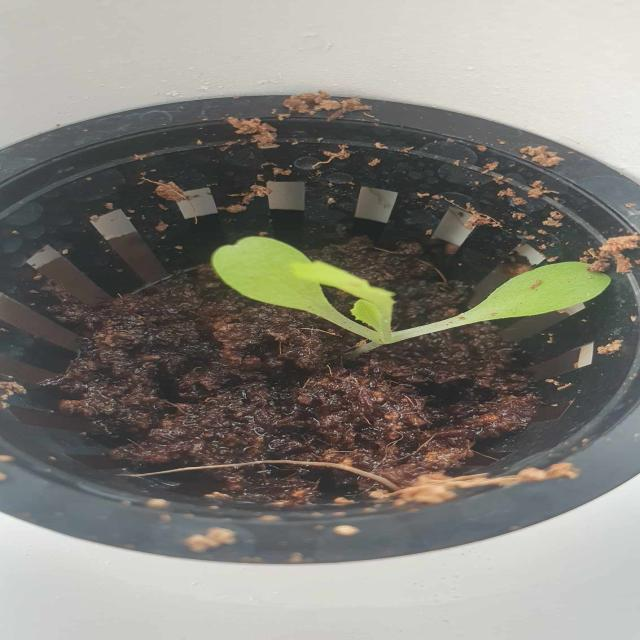Lettuce-Not-Ready-to-Harvest: (198, 222, 628, 367)
